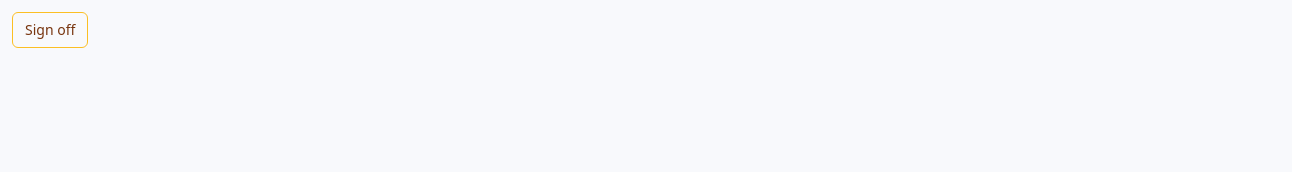
Test: sign-off of an uncounted shift › SHIFT_UNCOUNTED: shows the refusal and links to the shift in POS Activity
Click the button "Sign off" at x=50, y=30, box [12,12,88,48]
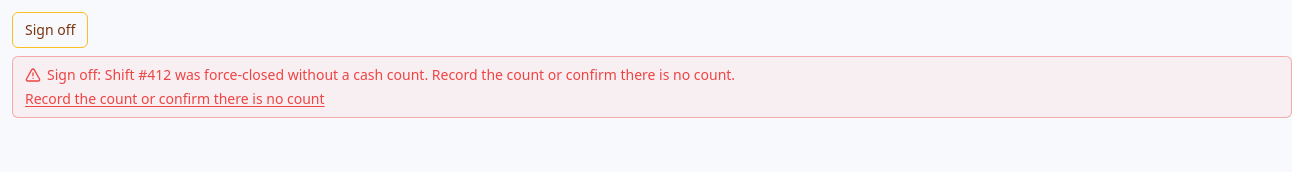
Now the text "force-closed without a cash count" is shown, box [105,65,735,84]
